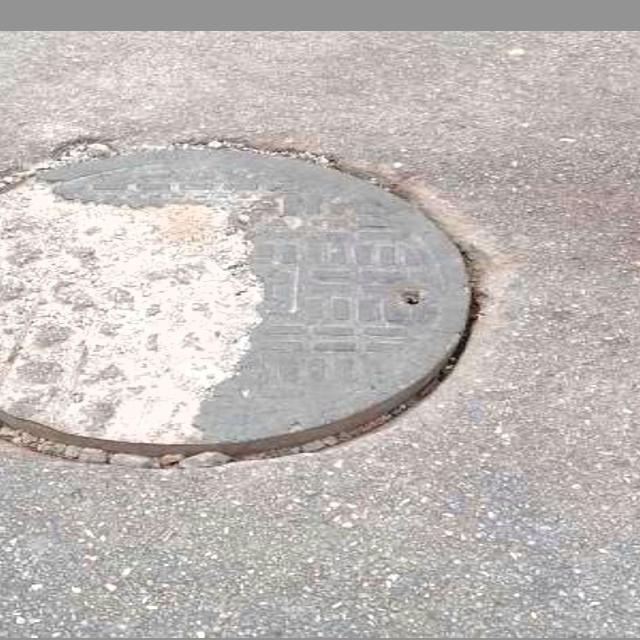circle: (0, 117, 509, 476)
